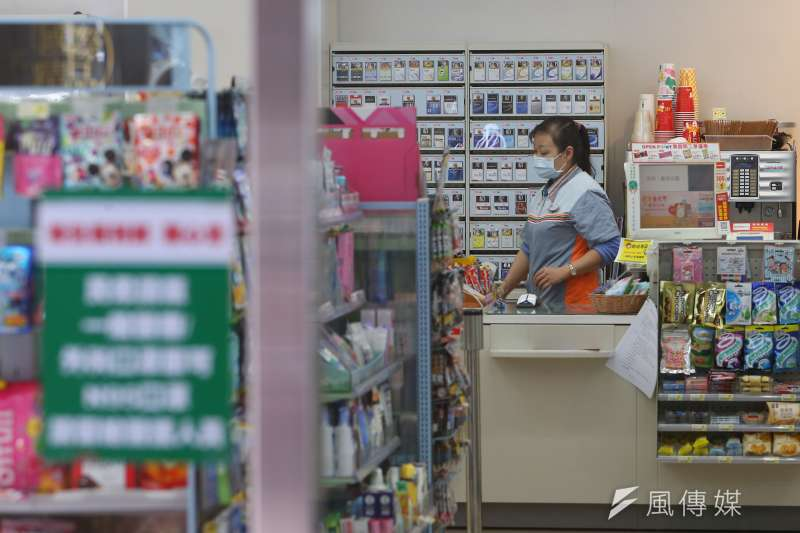Mask: (531, 130, 575, 181)
